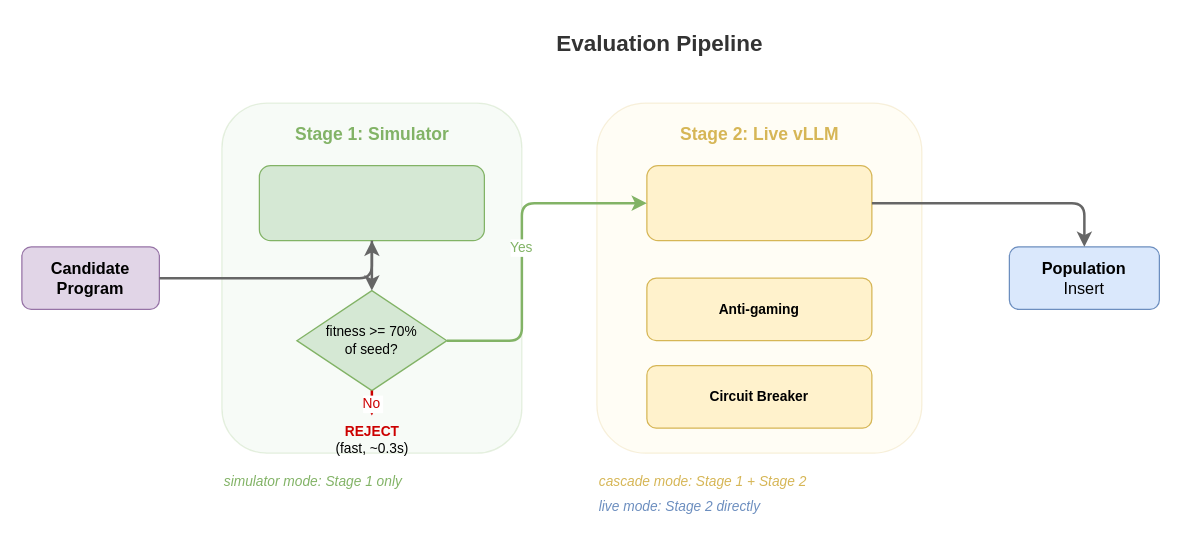
Image size: 1181x536. Some labels were removed from this diagram. Each missing label, with the centre of its shape:
"DES Simulator CPU-only, ~0.3s" goes at pixel 371 202.
"Live vLLM GPU, ~1-2 min" goes at pixel 759 202.
